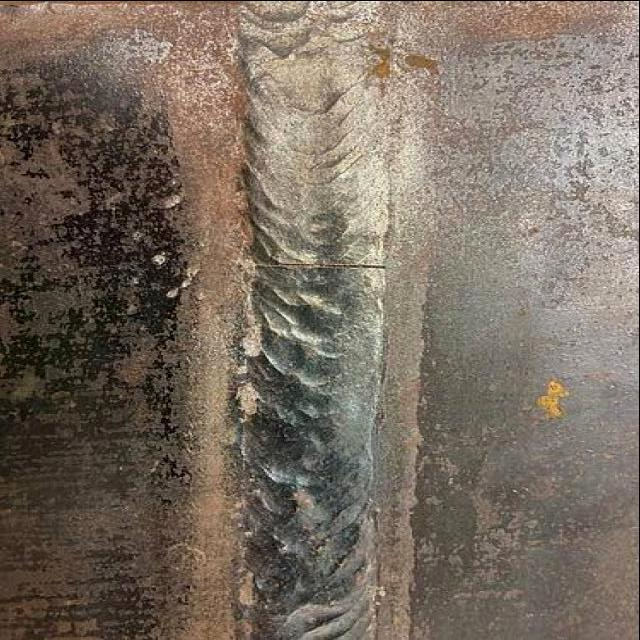defect: (260, 257, 400, 274)
